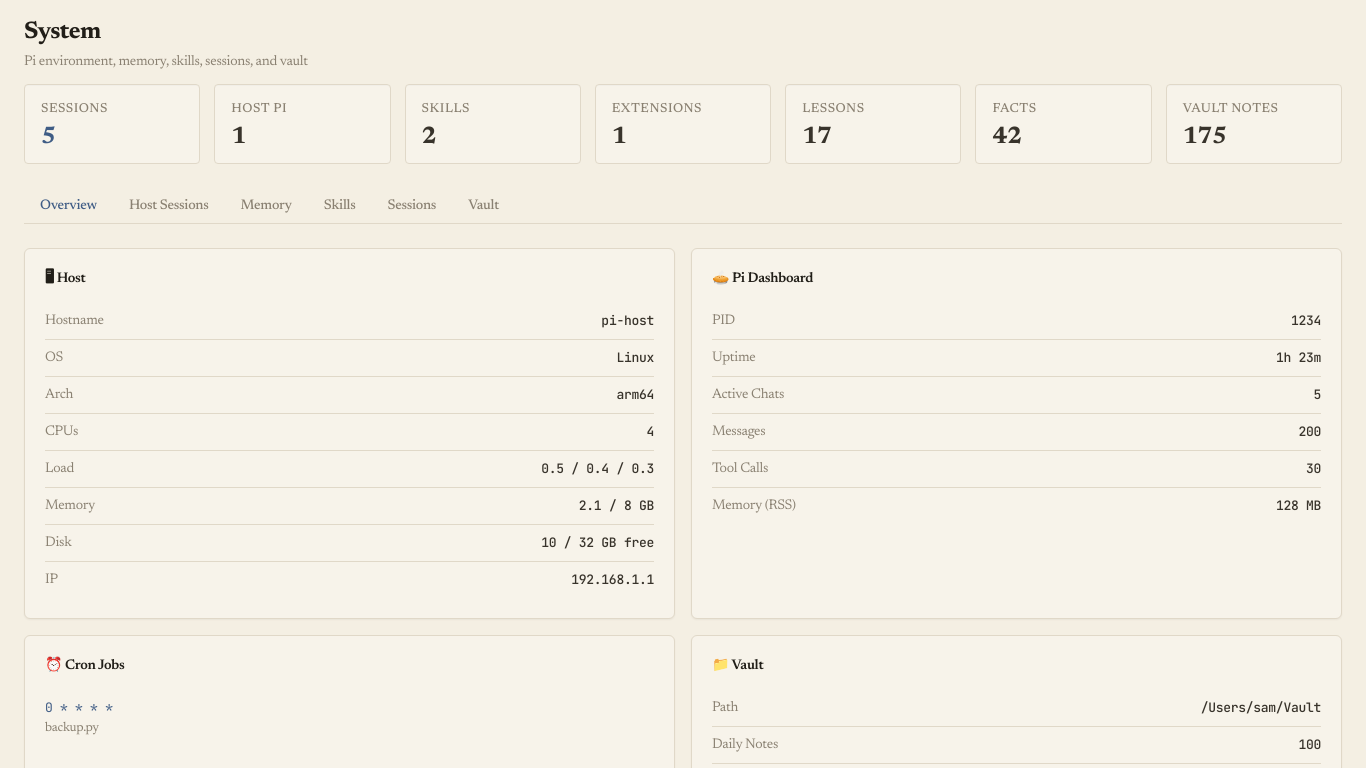
SystemPage — tab switching › clicking Skills tab shows skills content
Click the button "Skills": (340, 206) [308,188,372,224]
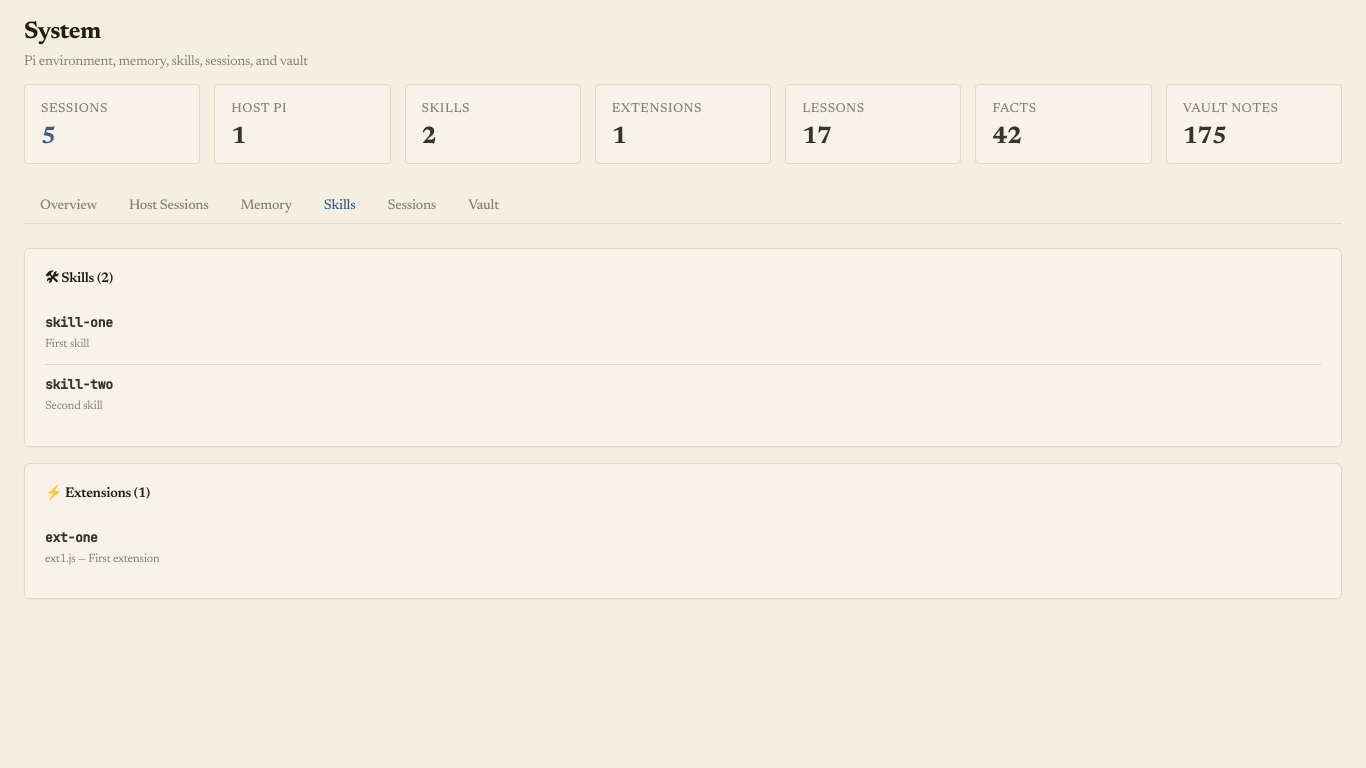
Result: the heading "🛠 Skills (2)" is shown at [45,272,113,286]
